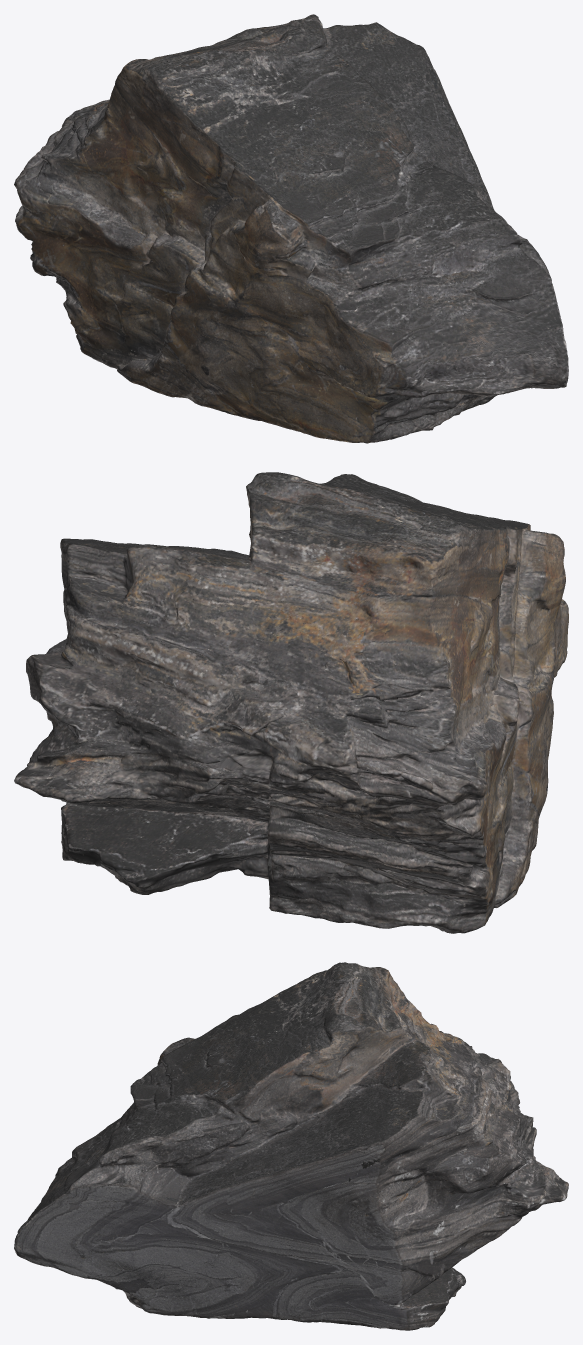
Rendered from WorkshopBIB.glb.
3 views of the same model, one above another, from view 1: azimuth 30°, elevation 25°; view 2: azimuth 150°, elevation 25°; view 3: azimuth 270°, elevation 25° (orthographic). The views are drawn at different scales.
Visible parts, largest first — view 1: Meshmixer to Blender; view 2: Meshmixer to Blender; view 3: Meshmixer to Blender.
Boxes of the visible parts, box(x1,y1,x2,y2) form: Meshmixer to Blender: box(14, 14, 568, 443); Meshmixer to Blender: box(14, 472, 568, 933); Meshmixer to Blender: box(14, 962, 568, 1330).
Bounding box in the file's own units: 0.1228 × 0.0956 × 0.1841.
Materials: 1 (1 with a texture image).
